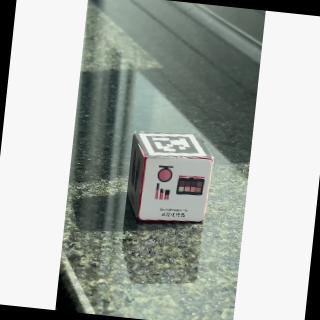Expired_Cosmetic: (140, 156, 216, 229)
